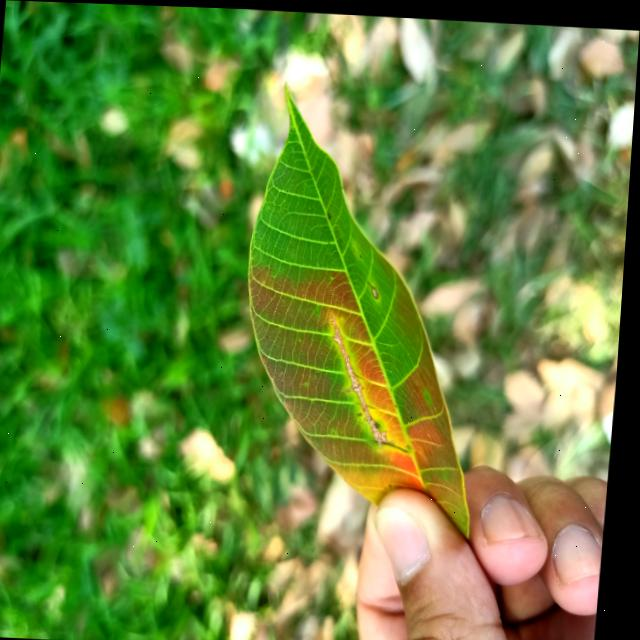Colletotrichum: (362, 250, 365, 254), (394, 480, 397, 482)
